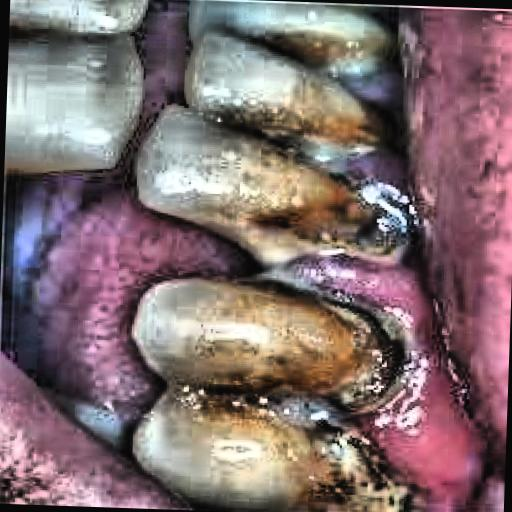Gingivitis: (302, 87, 491, 512)
